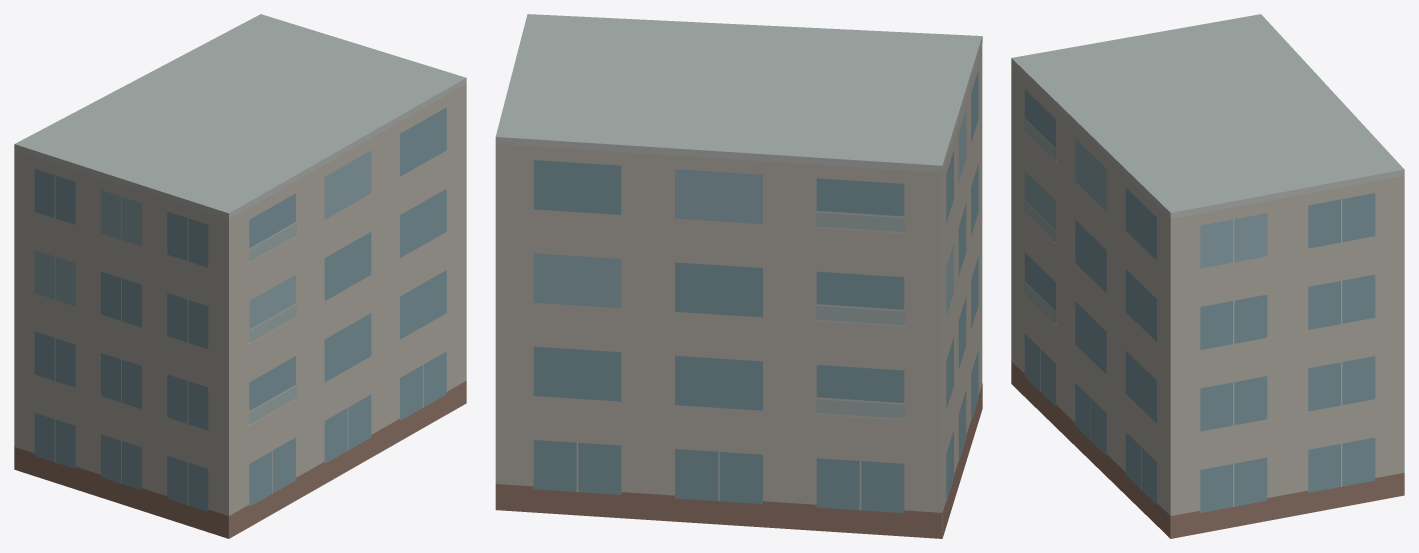
File: survey-upis-32762623.glb
The picture shows the model from 3 angles, left to right: view 1: azimuth 30°, elevation 25°; view 2: azimuth 150°, elevation 25°; view 3: azimuth 270°, elevation 25°; orthographic projection. The views are drawn at different scales.
Parts seen in each view (by area): view 1: survey-upis-32762623.tmp; view 2: survey-upis-32762623.tmp; view 3: survey-upis-32762623.tmp.
Part boxes in pixels (x1,y1,x2,y2): survey-upis-32762623.tmp: (14,14,466,538); survey-upis-32762623.tmp: (495,14,982,538); survey-upis-32762623.tmp: (1011,14,1404,538).
Size of the model in its own units: 16.96 by 12.95 by 14.17.
